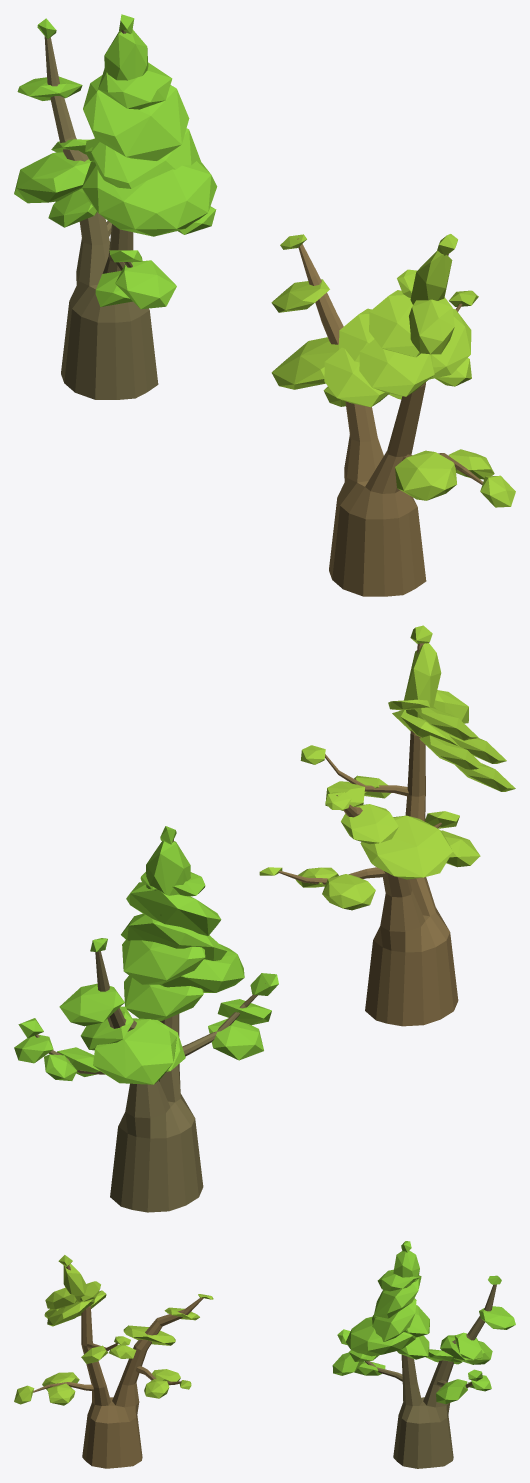
File: tree2blend2.fbx
The picture shows the model from 3 angles, top to bottom: view 1: azimuth 30°, elevation 25°; view 2: azimuth 150°, elevation 25°; view 3: azimuth 270°, elevation 25°; orthographic projection. The views are drawn at different scales.
Parts seen in each view (by area): view 1: Icosphere.013, Icosphere.028, Cylinder.000, Cylinder.002; view 2: Icosphere.013, Icosphere.028, Cylinder.000, Cylinder.002; view 3: Icosphere.013, Cylinder.000, Icosphere.028, Cylinder.002.
Boxes of the visible parts, x1,y1,x2,y2 form: Icosphere.013: (14, 14, 217, 309); Icosphere.028: (271, 234, 515, 507); Cylinder.000: (297, 238, 482, 596); Cylinder.002: (44, 29, 158, 399); Icosphere.013: (14, 826, 278, 1084); Icosphere.028: (259, 625, 515, 910); Cylinder.000: (278, 643, 458, 1026); Cylinder.002: (35, 839, 265, 1212); Icosphere.013: (332, 1241, 515, 1404); Cylinder.000: (33, 1265, 203, 1468); Icosphere.028: (14, 1255, 213, 1405); Cylinder.002: (365, 1284, 496, 1468).
Size of the model in its own units: 500 by 961 by 2021.
